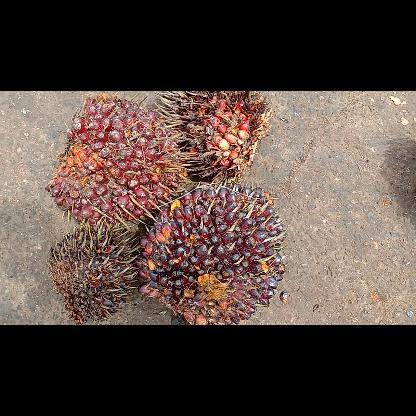Kurang masak: (133, 180, 287, 324)
TBS abnormal: (46, 220, 140, 324)
TBS masak: (42, 92, 181, 226)
Terlalu masak: (152, 90, 272, 184)
